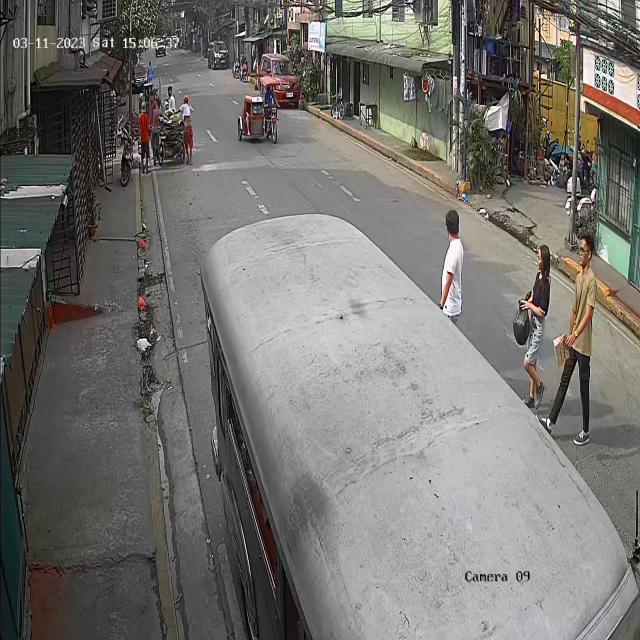garbage_dumping: (508, 292, 530, 347), (551, 322, 574, 371)
